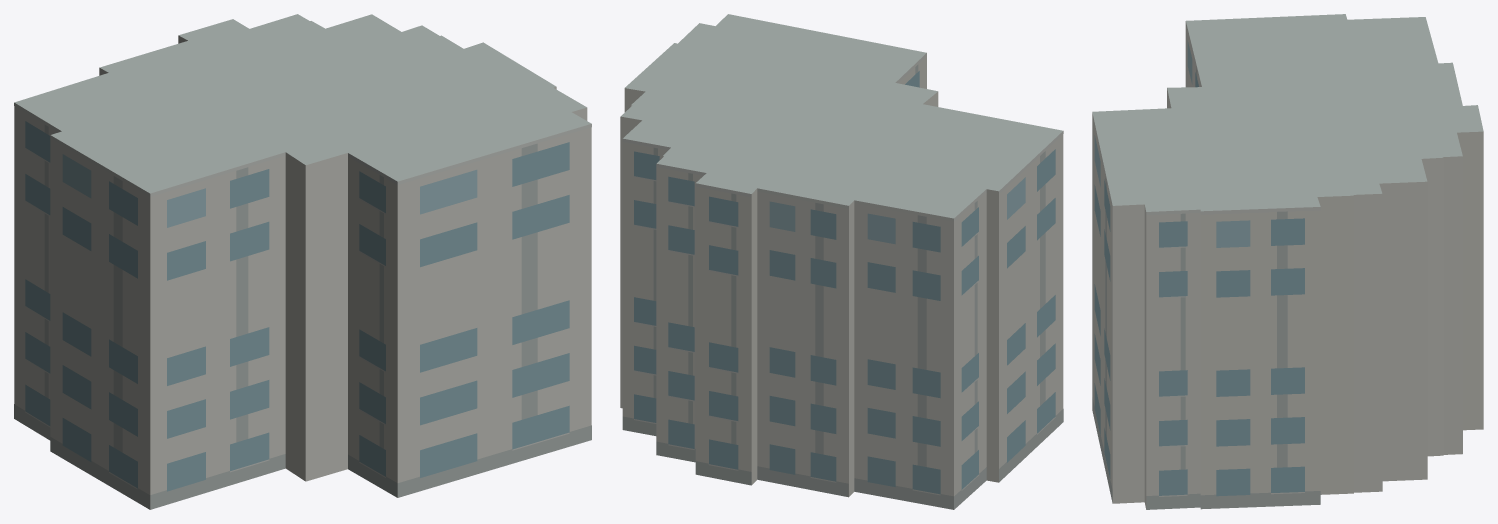
File: survey-upis-32837114.glb
3 views of the same model, side by side, from view 1: azimuth 30°, elevation 25°; view 2: azimuth 150°, elevation 25°; view 3: azimuth 270°, elevation 25° (orthographic). The views are drawn at different scales.
Parts seen in each view (by area): view 1: survey-upis-32837114.tmp; view 2: survey-upis-32837114.tmp; view 3: survey-upis-32837114.tmp.
Boxes of the visible parts, x1,y1,x2,y2 form: survey-upis-32837114.tmp: [14, 14, 591, 509]; survey-upis-32837114.tmp: [620, 14, 1063, 509]; survey-upis-32837114.tmp: [1092, 14, 1483, 509].
Size of the model in its own units: 30.66 by 21.5 by 25.61.
